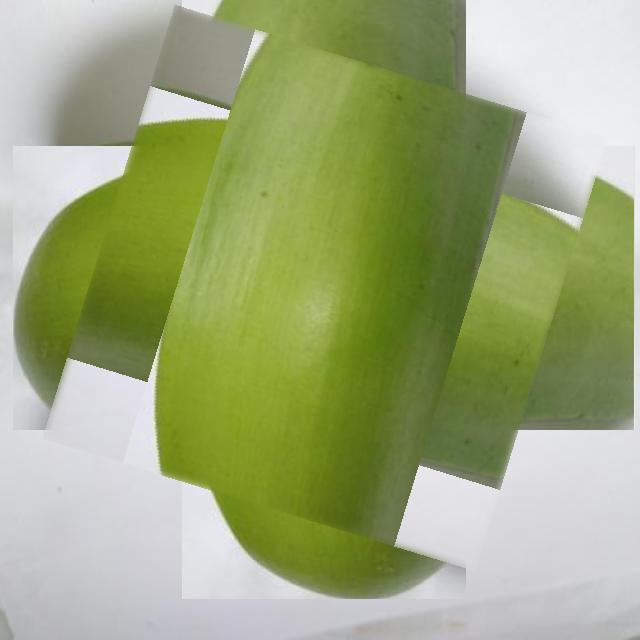Verde: (70, 33, 579, 543)
